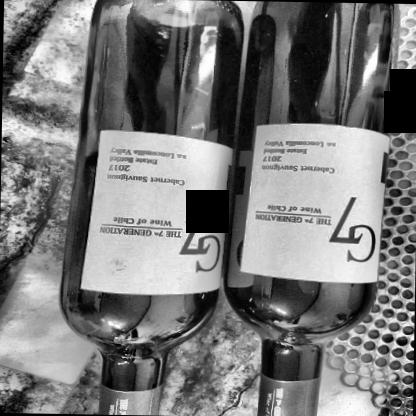G7: (85, 130, 224, 292), (251, 121, 383, 281)
